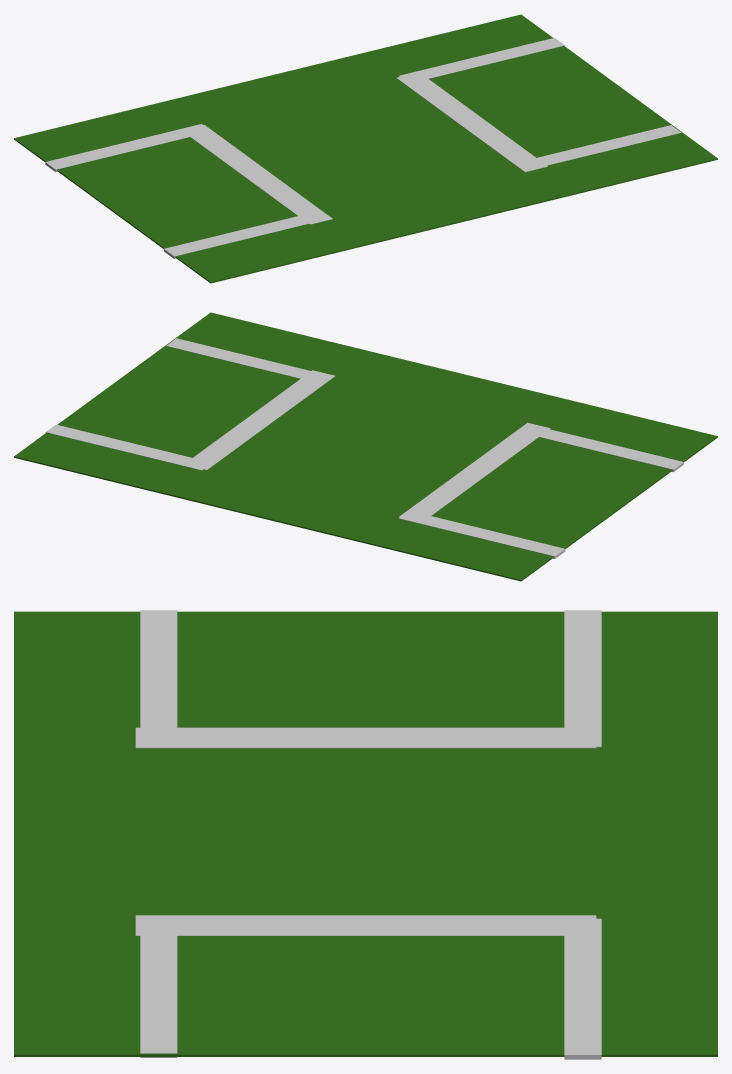
3 views of the same model, one above another, from view 1: azimuth 30°, elevation 25°; view 2: azimuth 150°, elevation 25°; view 3: azimuth 270°, elevation 25° (orthographic). The views are drawn at different scales.
Parts seen in each view (by area): view 1: Cube_003; view 2: Cube_003; view 3: Cube_003.
Part boxes in pixels (box(x1,y1,x2,y2)): Cube_003: box(14, 14, 717, 283); Cube_003: box(14, 312, 717, 581); Cube_003: box(14, 610, 717, 1059).
Bounding box in the file's own units: 3.98 × 2.66 × 0.02.
